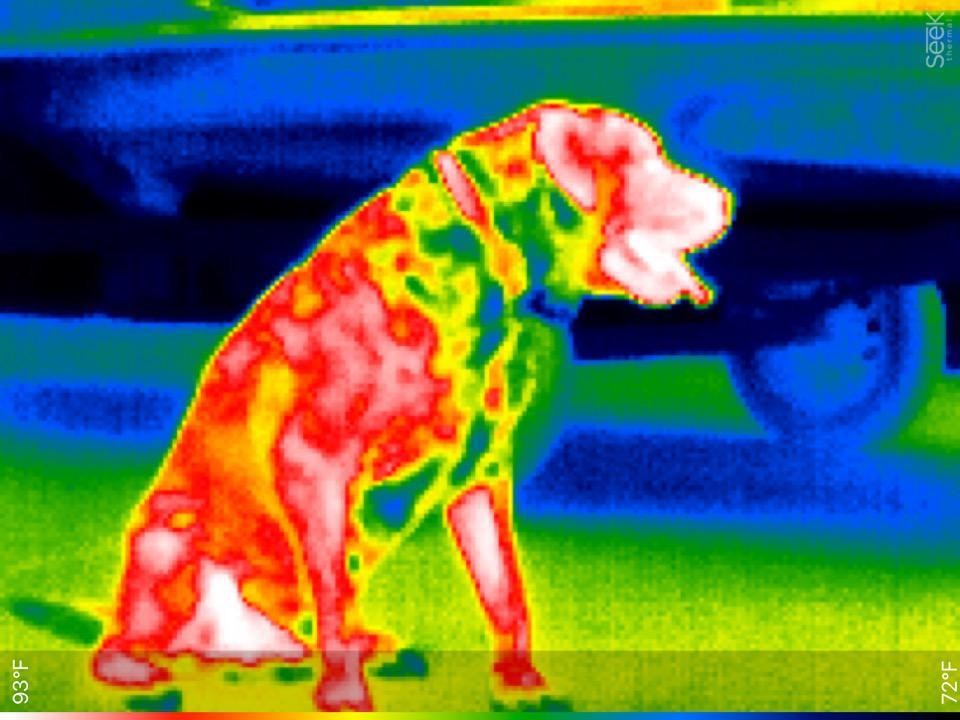dog: (74, 85, 749, 711)
